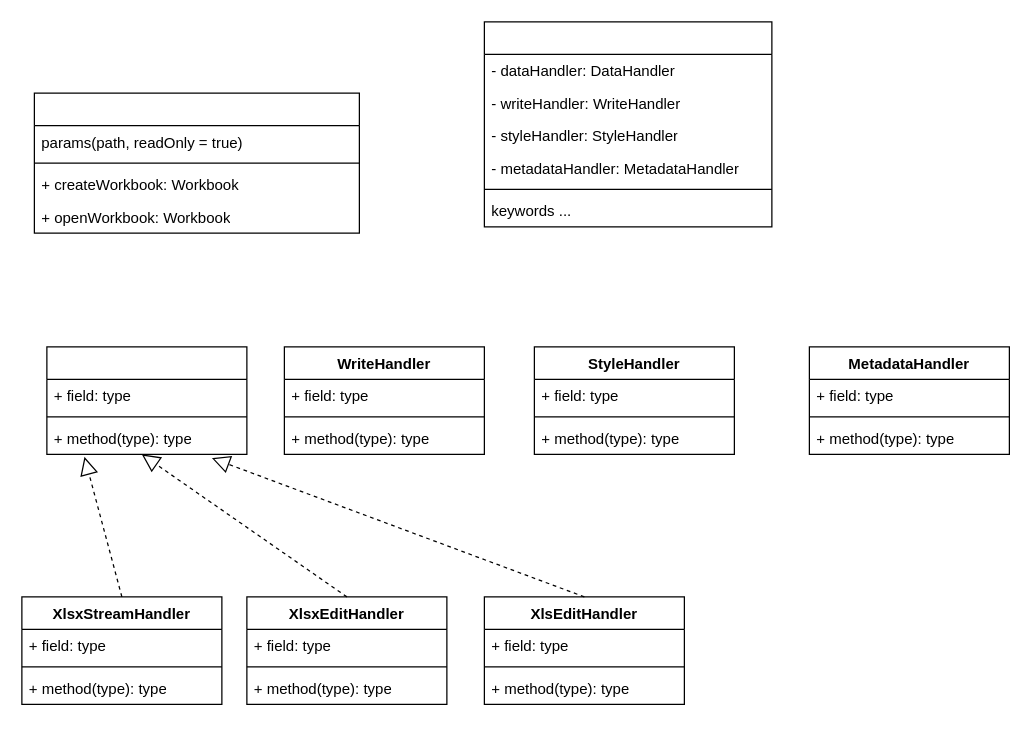
The diagram is 1031 pixels wide and 730 high, and some of its shapes have lost their labels. Each missing label, with the box of its shape:
DataHandler: (46, 346, 247, 454)
Workbook: (483, 21, 772, 227)
WorkbookFactory: (33, 92, 359, 233)
